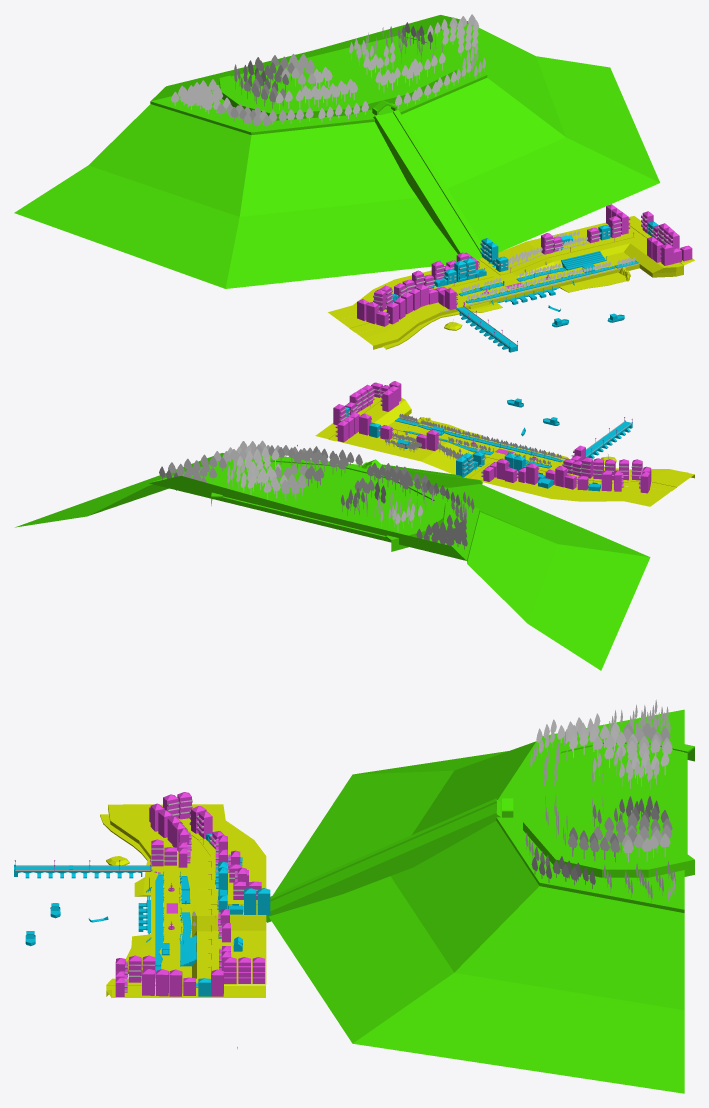
File: Cais 1.fbx
3 renders of one model, top to bottom at view 1: azimuth 30°, elevation 25°; view 2: azimuth 150°, elevation 25°; view 3: azimuth 270°, elevation 25°, orthographic. The views are drawn at different scales.
Visible parts, largest first — view 1: Montanha_Cais, Terreno_Cais, AssetsMisc_Cais, AssetsCais; view 2: Montanha_Cais, Terreno_Cais, AssetsMisc_Cais, AssetsCais; view 3: Montanha_Cais, Terreno_Cais, AssetsMisc_Cais, AssetsCais.
Part boxes in pixels (bbox=[...]): Montanha_Cais: bbox=[14, 15, 659, 288]; Terreno_Cais: bbox=[328, 216, 694, 349]; AssetsMisc_Cais: bbox=[357, 204, 692, 347]; AssetsCais: bbox=[391, 221, 658, 352]; Montanha_Cais: bbox=[15, 453, 650, 670]; Terreno_Cais: bbox=[315, 396, 694, 506]; AssetsMisc_Cais: bbox=[333, 381, 651, 493]; AssetsCais: bbox=[345, 398, 632, 491]; Montanha_Cais: bbox=[266, 709, 694, 1093]; Terreno_Cais: bbox=[100, 804, 266, 997]; AssetsMisc_Cais: bbox=[14, 792, 264, 996]; AssetsCais: bbox=[14, 833, 270, 996].
Bounding box in the file's own units: 46739 × 9201 × 36419.
